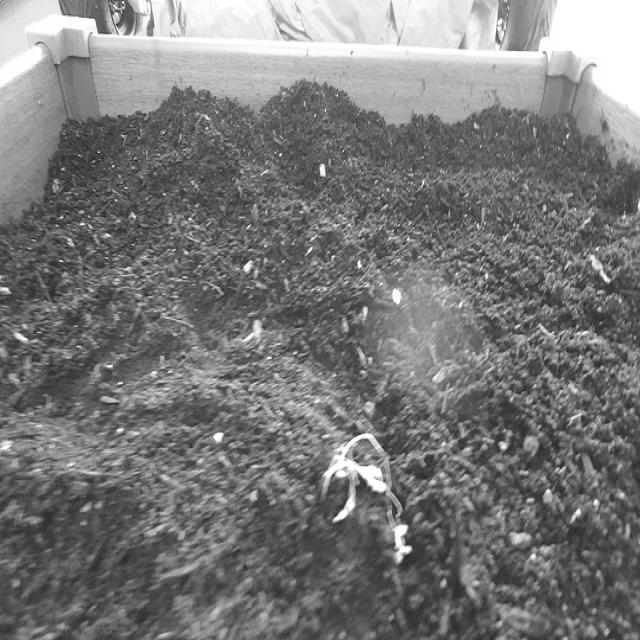Unhealthy: (315, 428, 414, 574)
